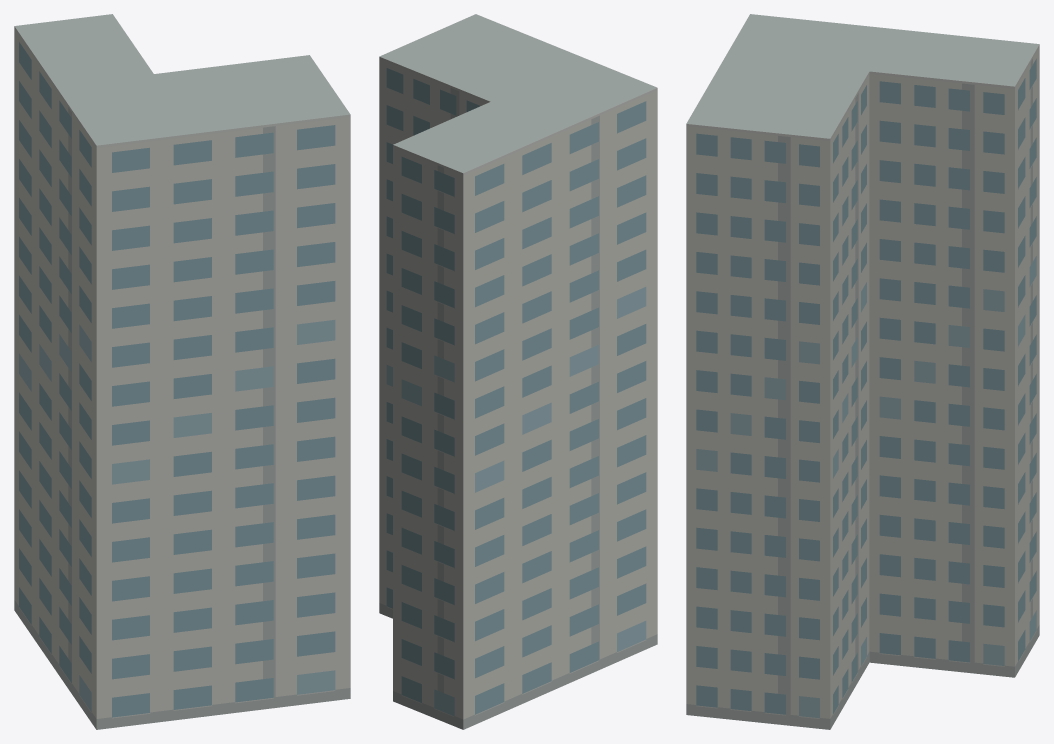
Rendered from residential-76bcc60f-20c4-4598-a79a-f3ae9d9c113a.glb.
3 renders of one model, left to right at view 1: azimuth 30°, elevation 25°; view 2: azimuth 150°, elevation 25°; view 3: azimuth 270°, elevation 25°, orthographic. The views are drawn at different scales.
Visible parts, largest first — view 1: residential-76bcc60f-20c4-4598-a79a-f3ae9d9c113a.tmp; view 2: residential-76bcc60f-20c4-4598-a79a-f3ae9d9c113a.tmp; view 3: residential-76bcc60f-20c4-4598-a79a-f3ae9d9c113a.tmp.
Part boxes in pixels (left/top/right/bottom): residential-76bcc60f-20c4-4598-a79a-f3ae9d9c113a.tmp: left=14, top=14, right=350, bottom=729; residential-76bcc60f-20c4-4598-a79a-f3ae9d9c113a.tmp: left=379, top=14, right=657, bottom=729; residential-76bcc60f-20c4-4598-a79a-f3ae9d9c113a.tmp: left=686, top=14, right=1039, bottom=729.
Size of the model in its own units: 27.18 by 60 by 32.53.
